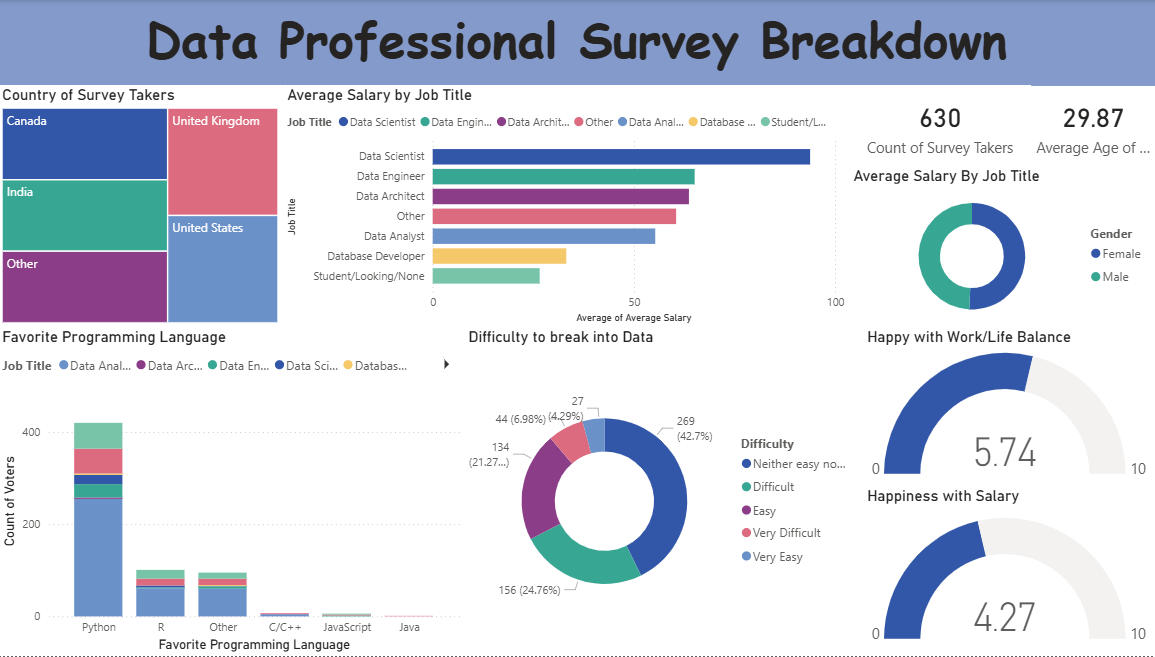

What the dashboard file says about the page in this screenshot:
{"tool":"powerbi","page":{"name":"Page 1","canvas":[1280,720],"ordinal":0},"visuals":[{"type":"textbox","box":[9.6,0,1270.7,94.7],"z":0},{"type":"card","fields":{"Values":["Count(Data Professional Survey.Unique ID)"]},"box":[944.1,93.3,200.3,89.2],"z":1000},{"type":"card","fields":{"Values":["Avg(Data Professional Survey.Q10 - Current Age)"]},"box":[1144.4,94.7,135.8,86.4],"z":2000},{"type":"donutChart","title":"Average Salary By Job Title","fields":{"Category":["Data Professional Survey.Q9 - Male/Female?"],"Y":["Avg(Data Professional Survey.Average Salary)"]},"box":[944.1,182.5,336.2,177],"z":3000},{"type":"columnChart","title":"Favorite Programming Language","fields":{"Category":["Data Professional Survey.Q5 - Favorite Programming Language.1"],"Y":["CountNonNull(Data Professional Survey.Unique ID)"],"Series":["Data Professional Survey.Q1 - Which Title Best Fits your Current Role?.1"]},"box":[9.6,359.5,511.8,360.9],"z":4000},{"type":"treemap","title":"Country of Survey Takers","fields":{"Group":["Data Professional Survey.Q11 - Which Country do you live in?.1"],"Values":["Count(Data Professional Survey.Q11 - Which Country do you live in?.1)"]},"box":[9.7,93.5,312.8,266.1],"z":5000},{"type":"gauge","title":"Happiness with Salary","fields":{"Y":["Avg(Data Professional Survey.Q6 - How Happy are you in your Current Position with the following? (Salary))"],"MinValue":["Min(Data Professional Survey.Q6 - How Happy are you in your Current Position with the following? (Salary))"],"MaxValue":["Max(Data Professional Survey.Q6 - How Happy are you in your Current Position with the following? (Salary))"]},"box":[959.2,533.8,321.1,186.6],"z":6000},{"type":"gauge","title":"Happy with Work/Life Balance","fields":{"Y":["Avg(Data Professional Survey.Q6 - How Happy are you in your Current Position with the following? (Work/Life Balance))"],"MinValue":["Min(Data Professional Survey.Q6 - How Happy are you in your Current Position with the following? (Work/Life Balance))"],"MaxValue":["Max(Data Professional Survey.Q6 - How Happy are you in your Current Position with the following? (Work/Life Balance))"]},"box":[959.2,359.5,321.1,172.9],"z":7000},{"type":"donutChart","title":"Difficulty to break into Data","fields":{"Category":["Data Professional Survey.Q7 - How difficult was it for you to break into Data?"],"Y":["CountNonNull(Data Professional Survey.Q7 - How difficult was it for you to break into Data?)"]},"box":[521.4,359.5,437.7,360.9],"z":7001},{"type":"barChart","title":"Average Salary by Job Title","fields":{"Category":["Data Professional Survey.Q1 - Which Title Best Fits your Current Role?.1"],"Y":["Avg(Data Professional Survey.Average Salary)"],"Series":["Data Professional Survey.Q1 - Which Title Best Fits your Current Role?.1"]},"box":[322.5,93.3,621.6,266.2],"z":7002}]}

Visuals, with their boxes in screenshot pixels (x1, y1, x2, y2), scaled from the page's 1280x720 canvas onto the 1155x657 screenshot:
textbox: 9/0/1154/86
card - Count(Data Professional Survey.Unique ID): 852/85/1033/167
card - Avg(Data Professional Survey.Q10 - Current Age): 1033/86/1154/165
"Average Salary By Job Title" donutChart: 852/167/1154/328
"Favorite Programming Language" columnChart: 9/328/470/656
"Country of Survey Takers" treemap: 9/85/291/328
"Happiness with Salary" gauge: 866/487/1154/656
"Happy with Work/Life Balance" gauge: 866/328/1154/486
"Difficulty to break into Data" donutChart: 470/328/865/656
"Average Salary by Job Title" barChart: 291/85/852/328
